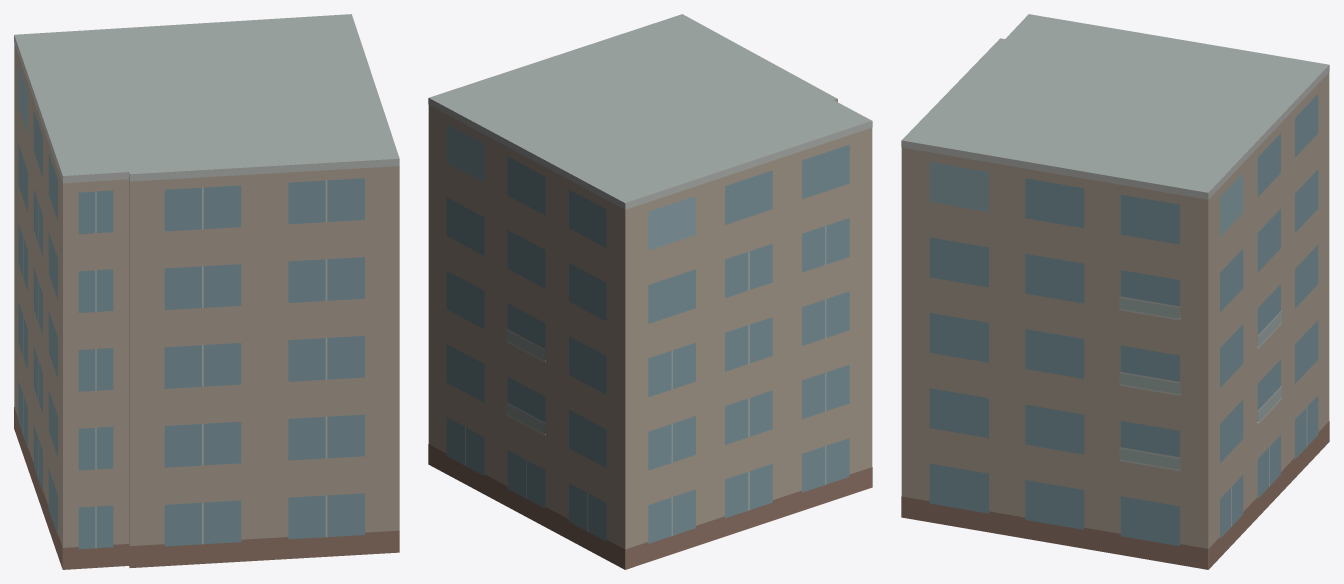
File: survey-upis-32756085.glb
The picture shows the model from 3 angles, left to right: view 1: azimuth 30°, elevation 25°; view 2: azimuth 150°, elevation 25°; view 3: azimuth 270°, elevation 25°; orthographic projection. The views are drawn at different scales.
Visible parts, largest first — view 1: survey-upis-32756085.tmp; view 2: survey-upis-32756085.tmp; view 3: survey-upis-32756085.tmp.
Part boxes in pixels (<box>): survey-upis-32756085.tmp: <box>14,14,399,569</box>; survey-upis-32756085.tmp: <box>428,14,872,569</box>; survey-upis-32756085.tmp: <box>901,14,1329,569</box>.
Size of the model in its own units: 13.44 by 13.2 by 13.59.
